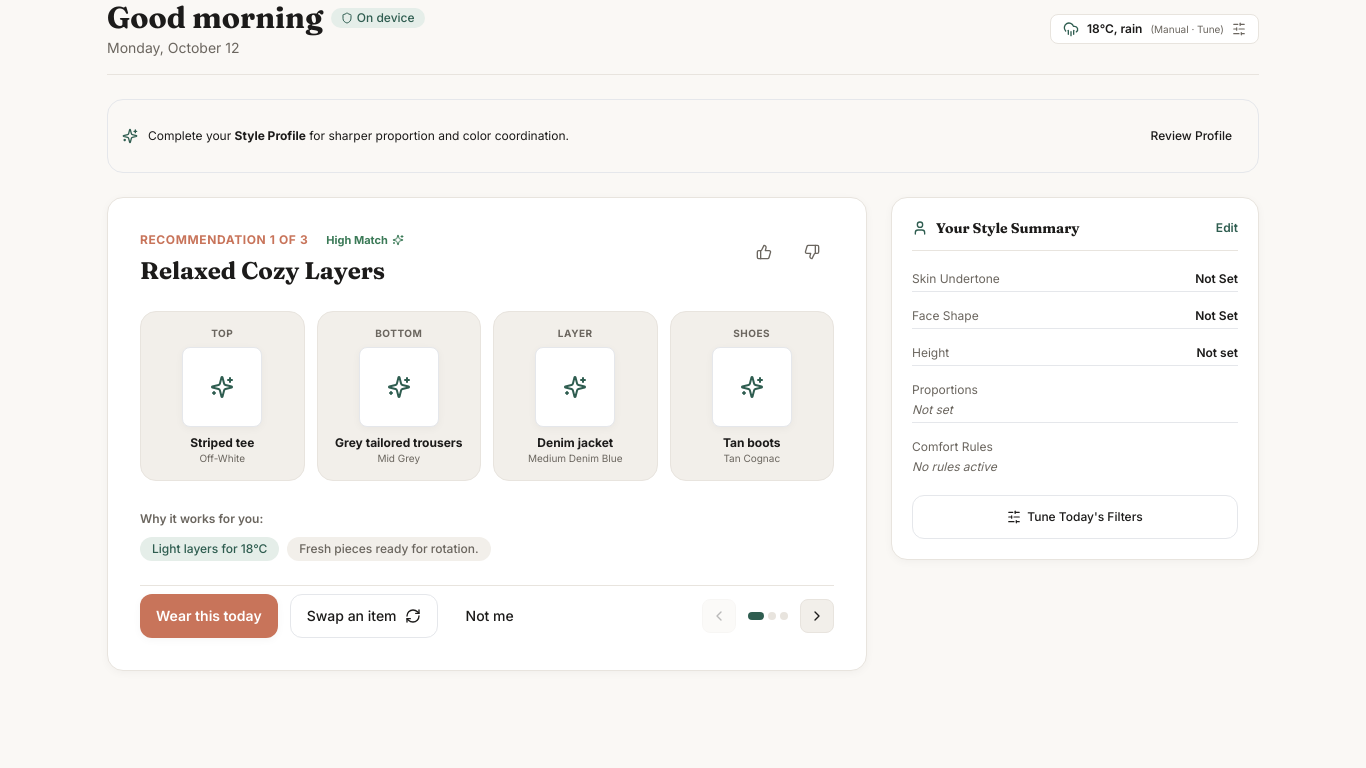
Scenario: Phase 5: Today Screen & Recommendation Flows › opens Style Match sheet and displays factor breakdowns
Expected: the text "High Match" is shown, [326,232,388,248]
# Click Match indicator
Step 1. Click the button "High Match" → point(365, 240), box [316,230,414,250]
(page scrolled)
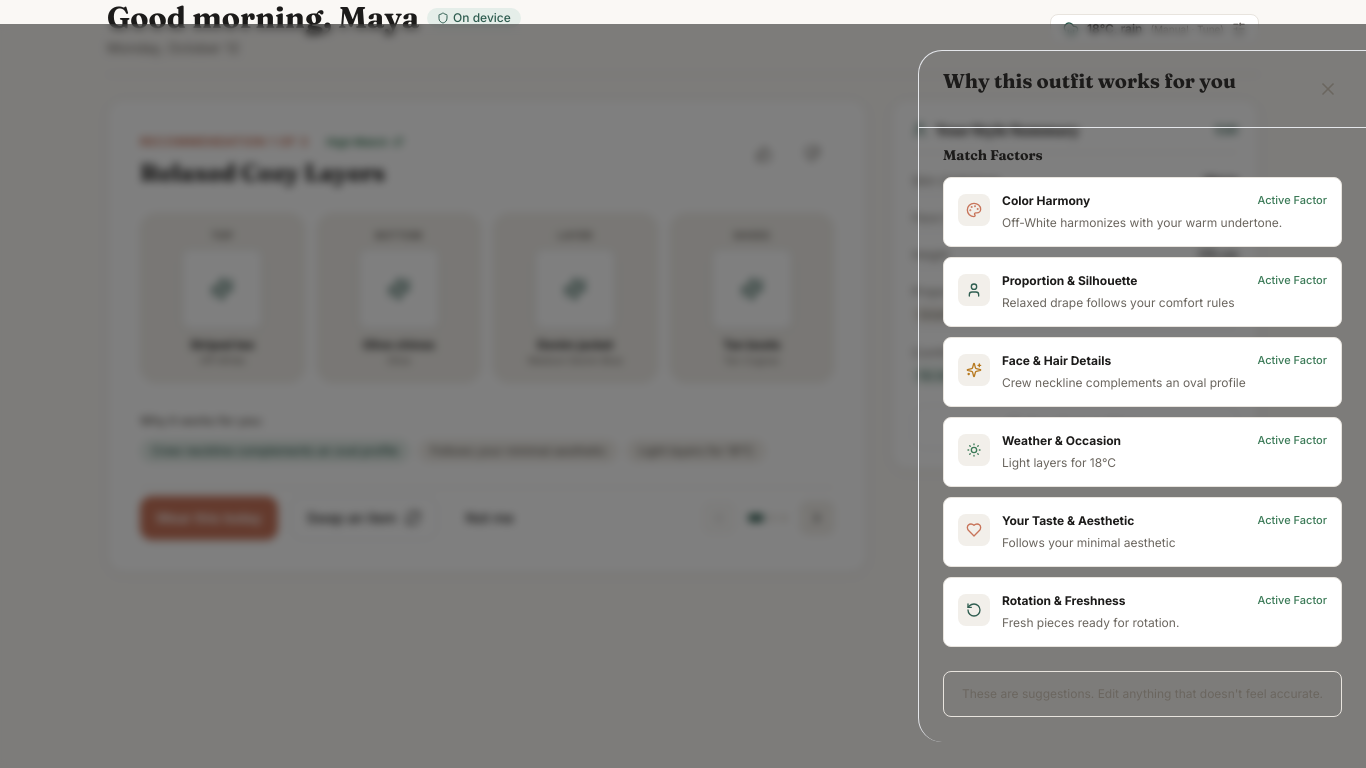
Result: the heading "Why this outfit works for you" is shown at [943,67,1236,95]
Result: the text "Color Harmony" is shown at [1002,193,1090,209]
Result: the text "Proportion & Silhouette" is shown at [1002,273,1138,289]
